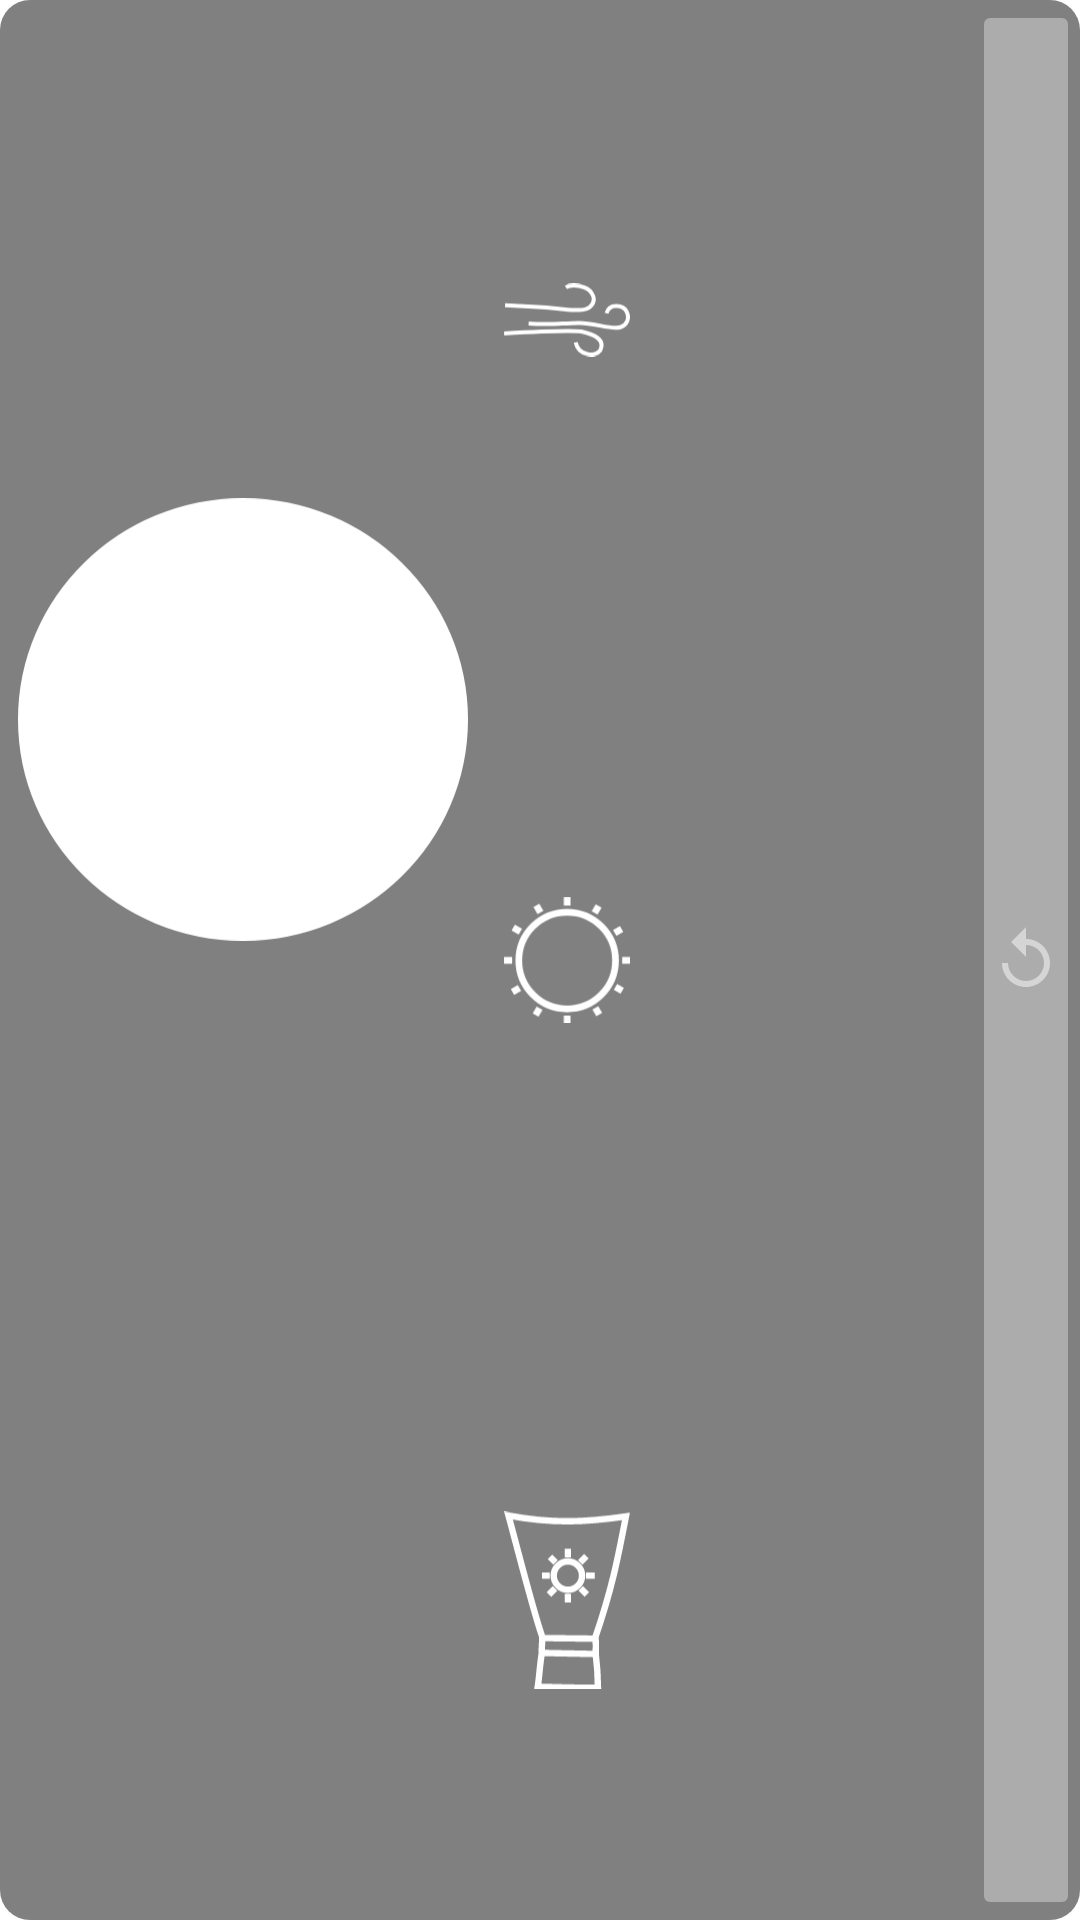

Icon bounding boxes for this 1080px×1920px phone screenshot, format {"left": x1, "top": y1, "right": x2, "bottom": y2}:
sun protection: {"left": 504, "top": 1511, "right": 630, "bottom": 1689}
sun uv: {"left": 504, "top": 897, "right": 630, "bottom": 1023}
wind: {"left": 504, "top": 283, "right": 630, "bottom": 357}
